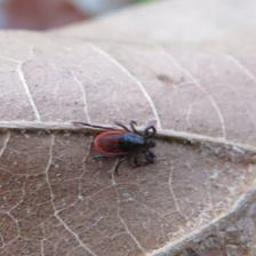Ixodes scapularis: (73, 119, 158, 174)
